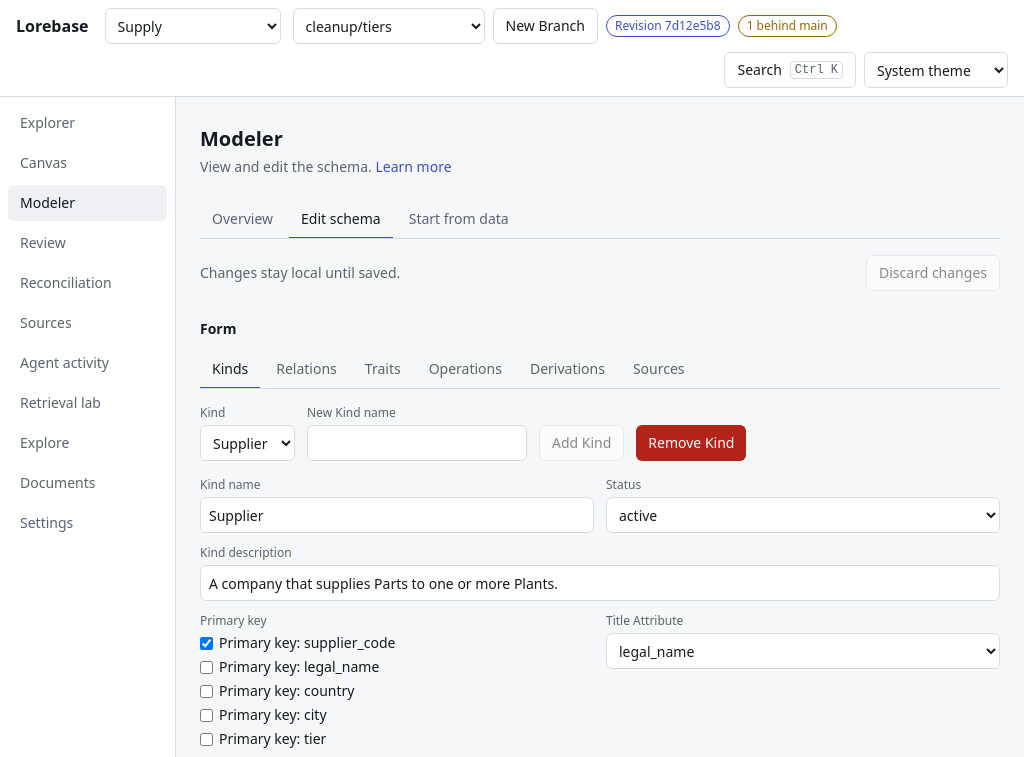
Test: Modeler schema editor: two synchronized views › refuses a literal Source connection next to the field
Click the tab "Sources" at (659, 370), box 621,351 -> 696,389
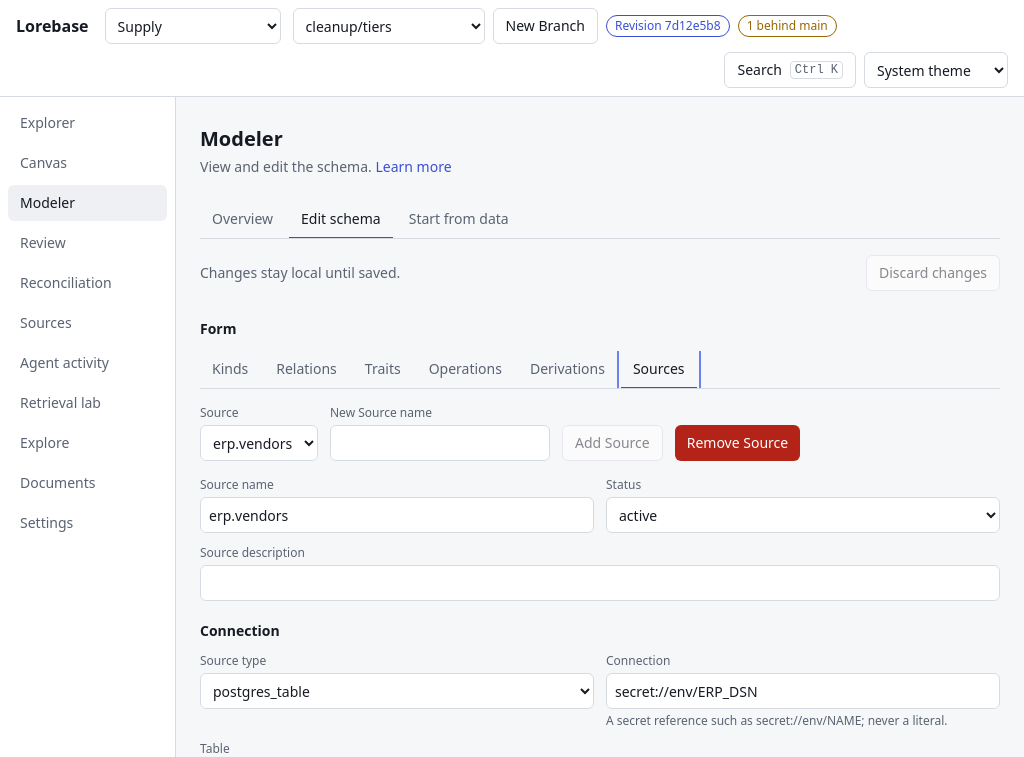
Replace the text in the field labelled "Connection" with "postgres://erp@db/erp" at (803, 691), box 606,673 -> 1000,709
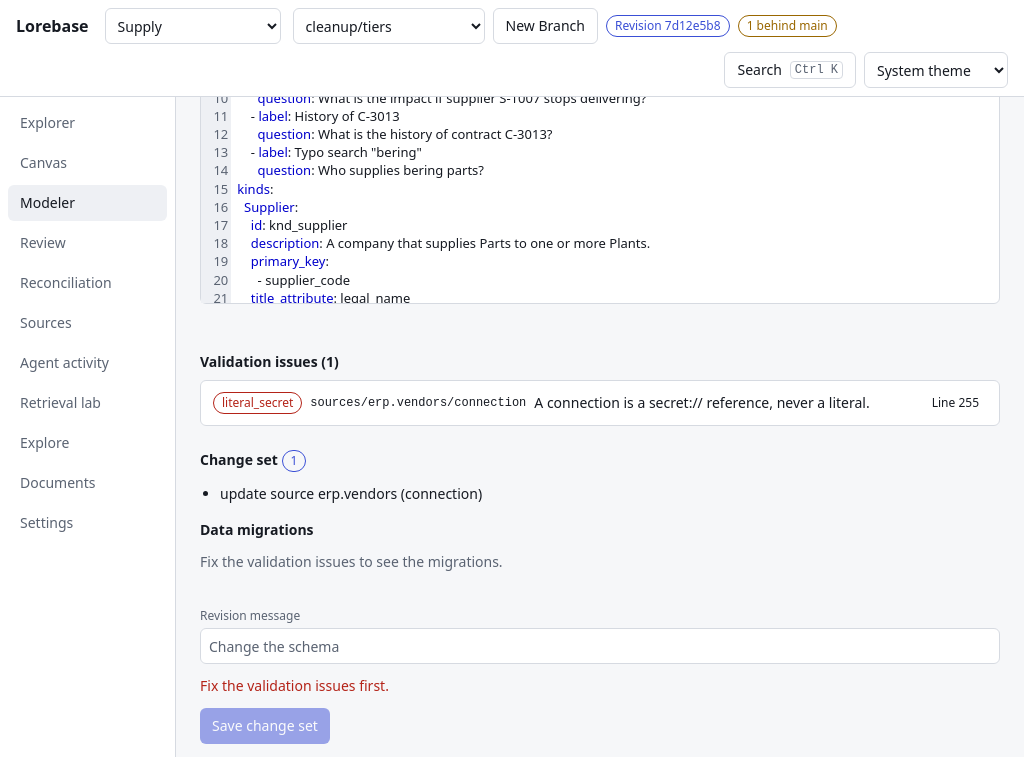
Result: the button "Save change set" is disabled at 200,708 -> 330,744
